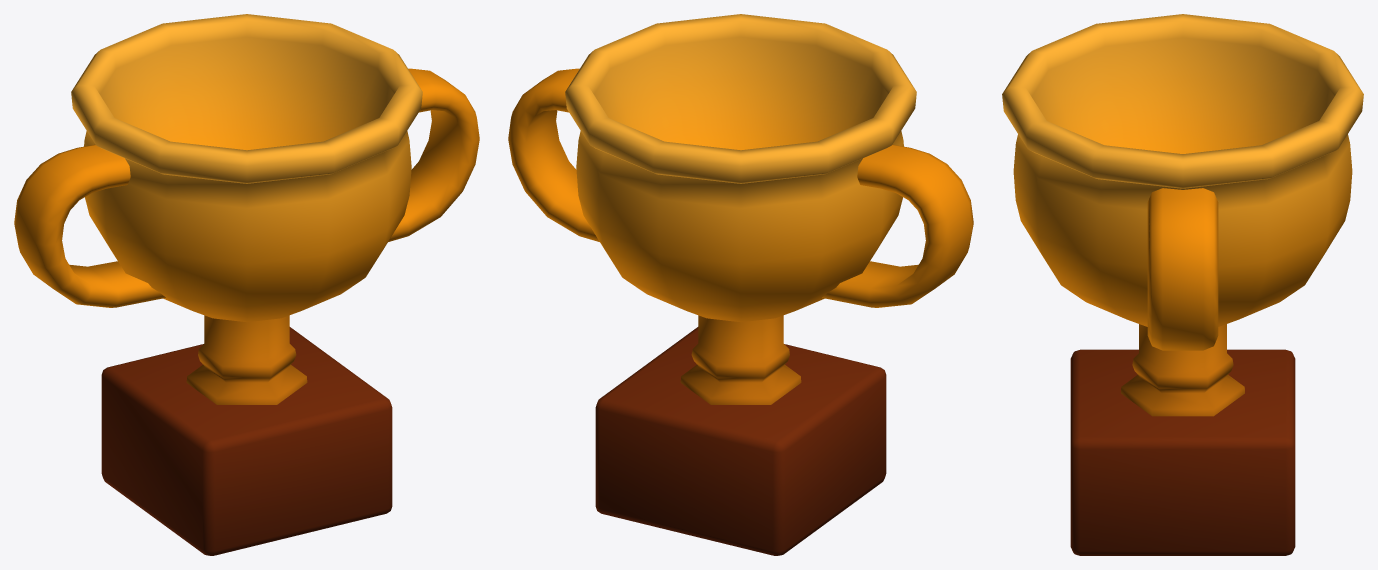
File: Collectable_Trophy_01.fbx
3 views of the same model, side by side, from view 1: azimuth 30°, elevation 25°; view 2: azimuth 150°, elevation 25°; view 3: azimuth 270°, elevation 25° (orthographic). The views are drawn at different scales.
Parts seen in each view (by area): view 1: Collectable_Trophy_01; view 2: Collectable_Trophy_01; view 3: Collectable_Trophy_01.
Boxes of the visible parts, bbox=[...] form: Collectable_Trophy_01: bbox=[14, 14, 479, 555]; Collectable_Trophy_01: bbox=[508, 14, 973, 555]; Collectable_Trophy_01: bbox=[1002, 14, 1363, 555].
Bounding box in the file's own units: 82.5 × 73.46 × 56.74.
